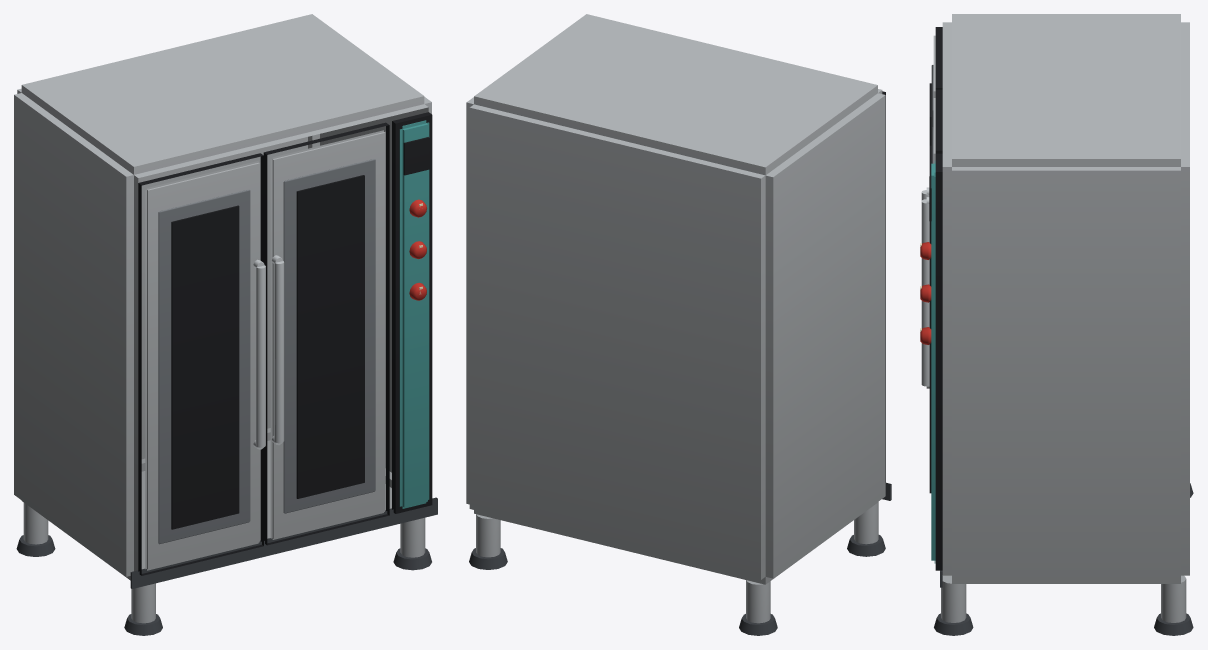
File: Oven_Convection_10.glb
3 views of the same model, side by side, from view 1: azimuth 30°, elevation 25°; view 2: azimuth 150°, elevation 25°; view 3: azimuth 270°, elevation 25° (orthographic). The views are drawn at different scales.
Visible parts, largest first — view 1: SM_Oven_Convection_10; view 2: SM_Oven_Convection_10; view 3: SM_Oven_Convection_10.
Boxes of the visible parts, left/top/right/bottom form: SM_Oven_Convection_10: left=14, top=14, right=437, bottom=635; SM_Oven_Convection_10: left=466, top=14, right=891, bottom=635; SM_Oven_Convection_10: left=920, top=14, right=1193, bottom=635.
Bounding box in the file's own units: 1 × 1.45 × 0.757.
1 material, 1 textured.
